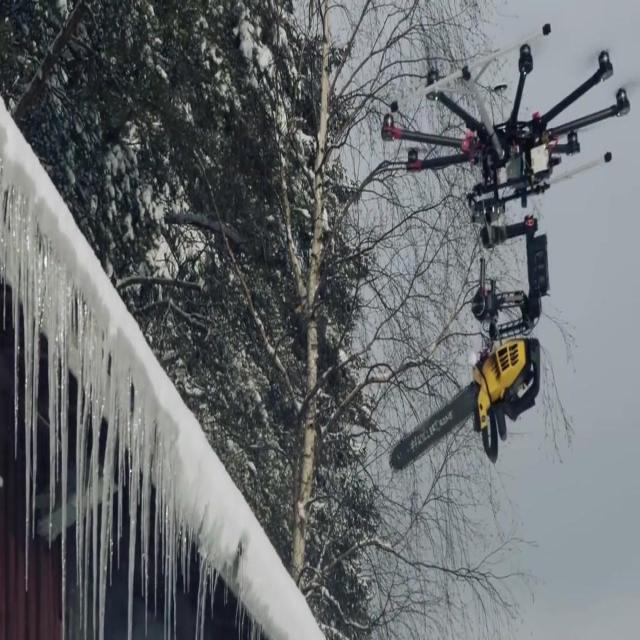drone: (379, 21, 633, 332)
